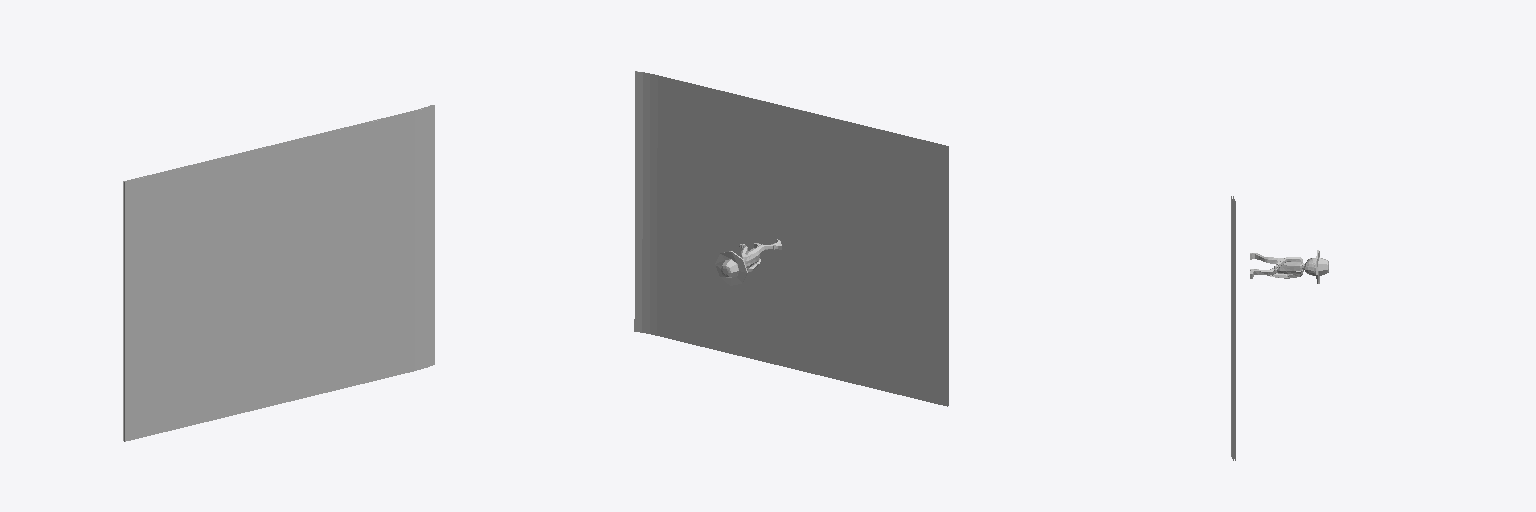
The model's file is start_file2_000077.obj.
3 renders of one model, left to right at view 1: azimuth 30°, elevation 25°; view 2: azimuth 150°, elevation 25°; view 3: azimuth 270°, elevation 25°, orthographic.
Visible parts, largest first — view 1: Cube_Cube.001; view 2: Cube_Cube.001, Character_Cube; view 3: Character_Cube, Cube_Cube.001.
Boxes of the visible parts, box(x1,y1,x2,y2) form: Cube_Cube.001: box(123, 105, 434, 441); Cube_Cube.001: box(634, 71, 948, 406); Character_Cube: box(715, 239, 781, 285); Character_Cube: box(1250, 250, 1328, 283); Cube_Cube.001: box(1231, 196, 1235, 460).
Bounding box in the file's own units: 1.92 × 1.52 × 0.5239.